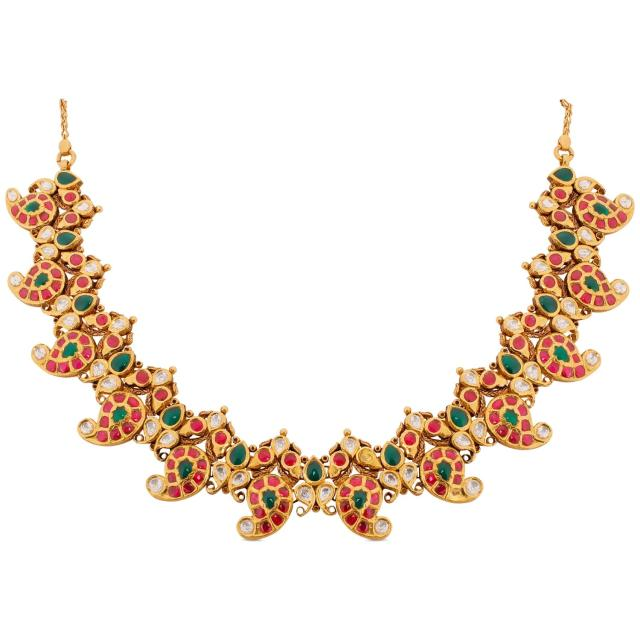missing gem: (359, 449, 372, 463), (451, 489, 461, 501)
